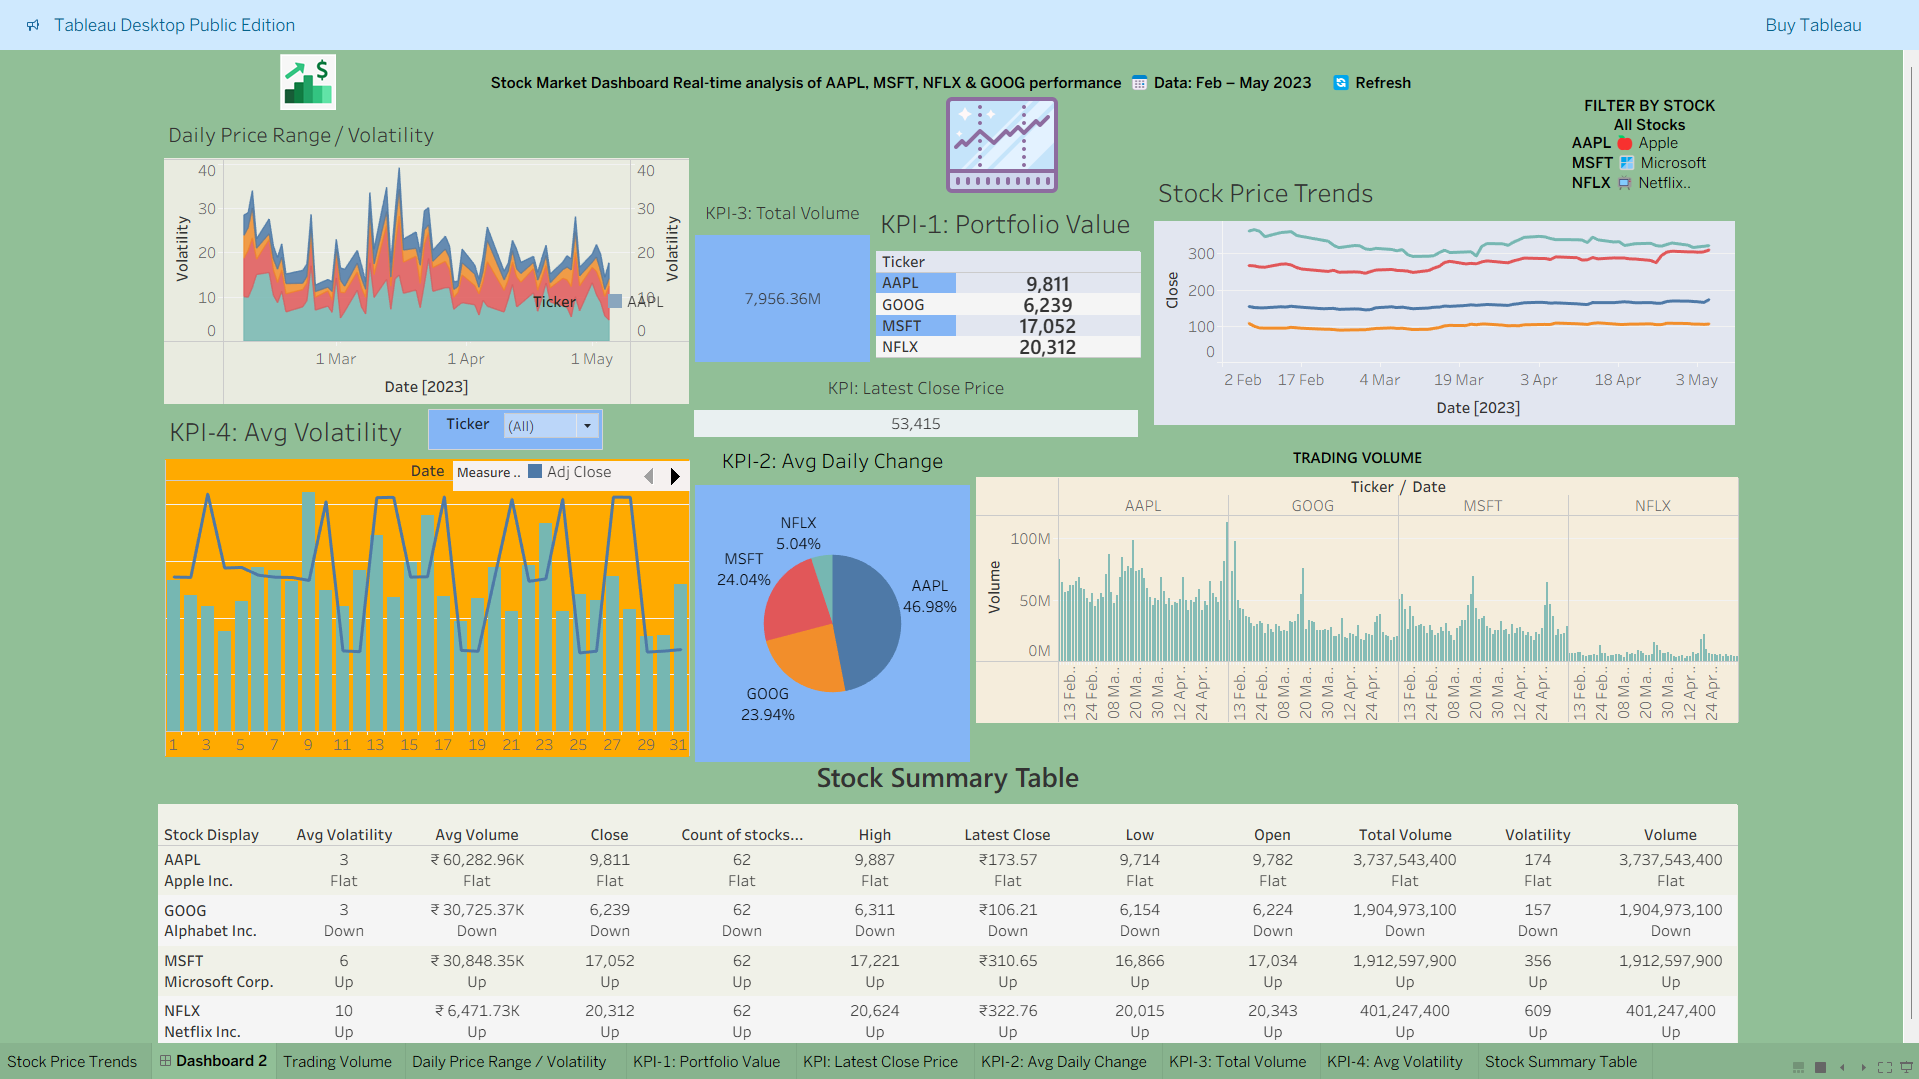

The page's visual inventory and layout, read from the dashboard file:
{"tool":"tableau","page":{"name":"Dashboard 2","canvas":[1580,1000],"ordinal":0},"visuals":[{"type":"image","param":"Image/download.gif","box":[36,3.8,222,56.2]},{"type":"text","box":[3,6.7,1574,53.3]},{"type":"text","box":[1404,18.1,166,134.3]},{"type":"image","param":"Image/download.png","box":[695,46.7,292,96.2]},{"type":"worksheet","title":"Daily Price Range / Volatility","mark":"Area","rows":["Calculation_0131973022527489","Calculation_0131973022527489"],"cols":["Date"],"box":[3,65.7,526,288.6]},{"type":"worksheet","title":"Stock Price Trends","mark":"Line","rows":["Close"],"cols":["Date"],"box":[993,121.1,581,254.4]},{"type":"worksheet","title":"KPI-3: Total Volume","mark":"Automatic","box":[534,146,175,166]},{"type":"worksheet","title":"KPI-1: Portfolio Value","mark":"Text","rows":["Ticker"],"box":[715,152.2,265,155.6]},{"type":"legend","title":"Daily Price Range / Volatility","param":"[federated.1fwkqnd0325qiw1f19zw50x4dmfg].[none:Ticker:nk]","box":[372,241.1,242,25.6]},{"type":"worksheet","title":"KPI: Latest Close Price","mark":"Automatic","box":[533,320.9,444,65.7]},{"type":"filter","title":"KPI-4: Avg Volatility","param":"[federated.1fwkqnd0325qiw1f19zw50x4dmfg].[none:Ticker:nk]","box":[267,359.1,175,41]},{"type":"worksheet","title":"KPI-4: Avg Volatility","mark":"Automatic","rows":["Calculation_0131973026000903","Adj Close"],"cols":["Date"],"box":[4,360,525,346.7]},{"type":"worksheet","title":"KPI-2: Avg Daily Change","mark":"Pie","box":[534,392.4,275,320]},{"type":"worksheet","title":"Trading Volume","mark":"Bar","rows":["Volume"],"cols":["Ticker","Date"],"box":[815,393.3,763,281.1]},{"type":"legend","title":"KPI-4: Avg Volatility","param":"[federated.1fwkqnd0325qiw1f19zw50x4dmfg].[:Measure Names]","box":[292,411.4,237,29.5]}]}

Visuals, with their boxes on the page's 1580x1000 design canvas (x1, y1, x2, y2). These are canvas units, not pixel positions in the 1919x1079 screenshot, which may show the page scaled, cropped or inside an application window:
image: l=36, t=4, r=258, b=60
text: l=3, t=7, r=1577, b=60
text: l=1404, t=18, r=1570, b=152
image: l=695, t=47, r=987, b=143
"Daily Price Range / Volatility" worksheet (Area marks): l=3, t=66, r=529, b=354
"Stock Price Trends" worksheet (Line marks): l=993, t=121, r=1574, b=376
"KPI-3: Total Volume" worksheet: l=534, t=146, r=709, b=312
"KPI-1: Portfolio Value" worksheet (Text marks): l=715, t=152, r=980, b=308
"Daily Price Range / Volatility" legend: l=372, t=241, r=614, b=267
"KPI: Latest Close Price" worksheet: l=533, t=321, r=977, b=387
"KPI-4: Avg Volatility" filter: l=267, t=359, r=442, b=400
"KPI-4: Avg Volatility" worksheet: l=4, t=360, r=529, b=707
"KPI-2: Avg Daily Change" worksheet (Pie marks): l=534, t=392, r=809, b=712
"Trading Volume" worksheet (Bar marks): l=815, t=393, r=1578, b=674
"KPI-4: Avg Volatility" legend: l=292, t=411, r=529, b=441
